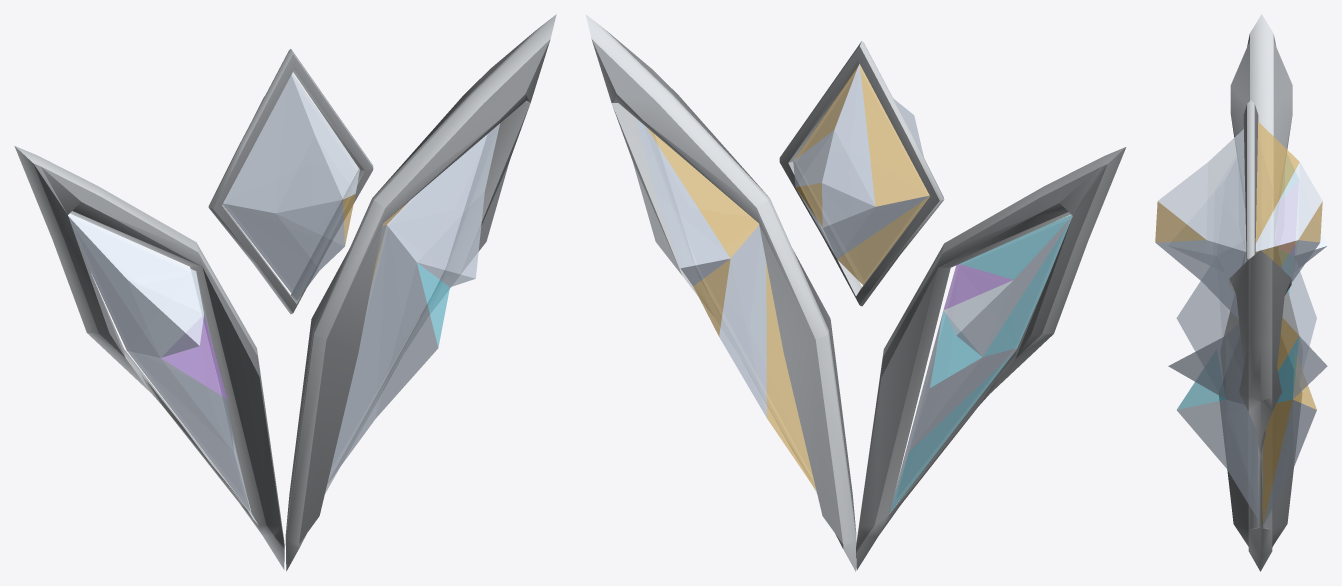
Rendered from CVC_insignia.glb.
The picture shows the model from 3 angles, left to right: view 1: azimuth 30°, elevation 25°; view 2: azimuth 150°, elevation 25°; view 3: azimuth 270°, elevation 25°; orthographic projection. The views are drawn at different scales.
Visible parts, largest first — view 1: CVC_frame_3_1, CVC_frame_1_1, CVC_crystal_3, CVC_crystal_2, CVC_crystal_1, CVC_frame_2_1; view 2: CVC_frame_3_1, CVC_frame_1_1, CVC_crystal_3, CVC_crystal_2, CVC_crystal_1, CVC_frame_2_1; view 3: CVC_frame_3_1, CVC_crystal_1, CVC_crystal_3, CVC_frame_1_1, CVC_crystal_2, CVC_frame_2_1.
Part boxes in pixels (x1,y1,x2,y2): CVC_frame_3_1: (285, 14, 556, 571); CVC_frame_1_1: (14, 146, 284, 569); CVC_crystal_3: (327, 123, 499, 484); CVC_crystal_2: (68, 213, 250, 511); CVC_crystal_1: (222, 73, 359, 300); CVC_frame_2_1: (208, 49, 373, 314); CVC_frame_3_1: (585, 14, 856, 571); CVC_frame_1_1: (856, 147, 1126, 570); CVC_crystal_3: (636, 118, 816, 490); CVC_crystal_2: (889, 214, 1072, 513); CVC_crystal_1: (793, 63, 929, 285); CVC_frame_2_1: (779, 41, 944, 306); CVC_frame_3_1: (1219, 250, 1301, 571); CVC_crystal_1: (1155, 122, 1322, 319); CVC_crystal_3: (1168, 317, 1327, 525); CVC_frame_1_1: (1220, 14, 1302, 547); CVC_crystal_2: (1169, 154, 1327, 377); CVC_frame_2_1: (1243, 100, 1258, 262).
Bounding box in the file's own units: 2.15 × 2 × 0.6637.
